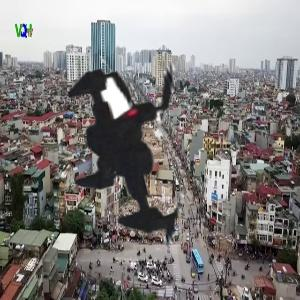drone: (1, 8, 284, 291)
